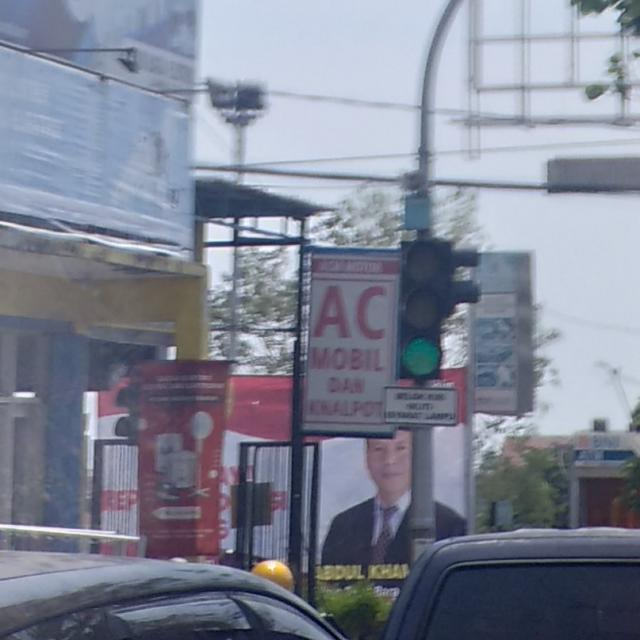green light: (401, 240, 441, 382)
